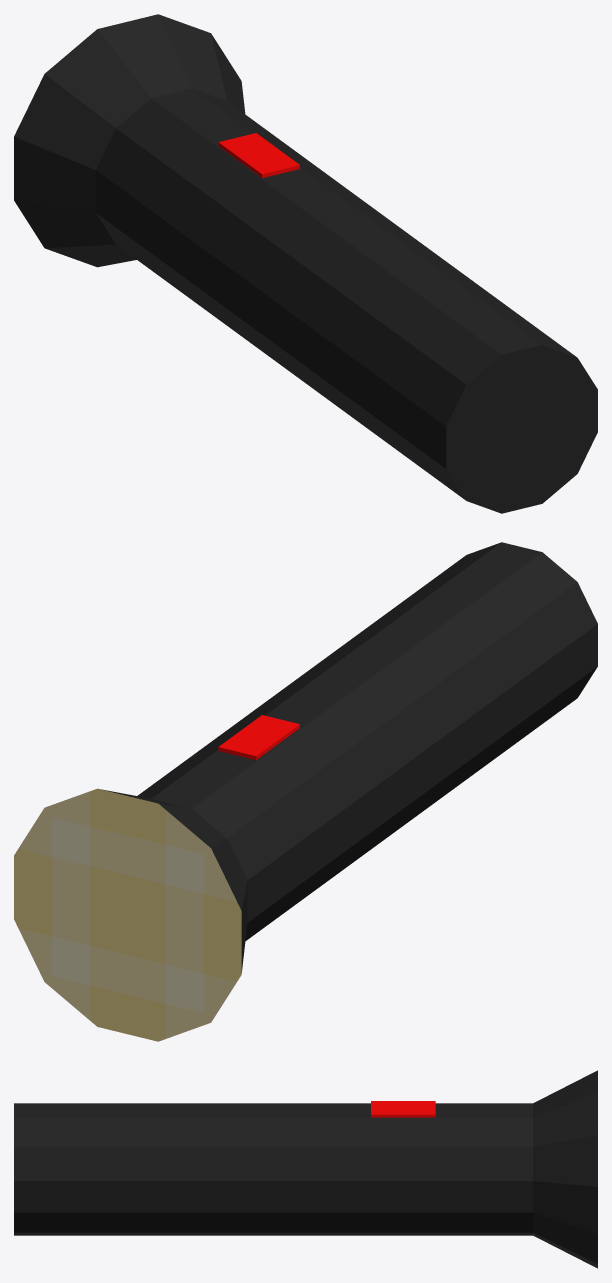
Rendered from flashlight_runtime.obj.
3 views of the same model, one above another, from view 1: azimuth 30°, elevation 25°; view 2: azimuth 150°, elevation 25°; view 3: azimuth 270°, elevation 25° (orthographic). The views are drawn at different scales.
Parts seen in each view (by area): view 1: cylinder, cone, mesh; view 2: cylinder, cone, mesh; view 3: cylinder, cone, mesh.
Boxes of the visible parts, left/top/right/bottom form: cylinder: left=95, top=88, right=597, bottom=513; cone: left=14, top=14, right=245, bottom=267; mesh: left=218, top=133, right=299, bottom=177; cylinder: left=137, top=542, right=597, bottom=941; cone: left=14, top=788, right=247, bottom=1041; mesh: left=218, top=715, right=299, bottom=759; cylinder: left=14, top=1103, right=532, bottom=1235; cone: left=533, top=1070, right=597, bottom=1268; mesh: left=371, top=1101, right=435, bottom=1117.
Size of the model in its own units: 0.375 by 0.375 by 1.12.
1 material, 1 textured.
